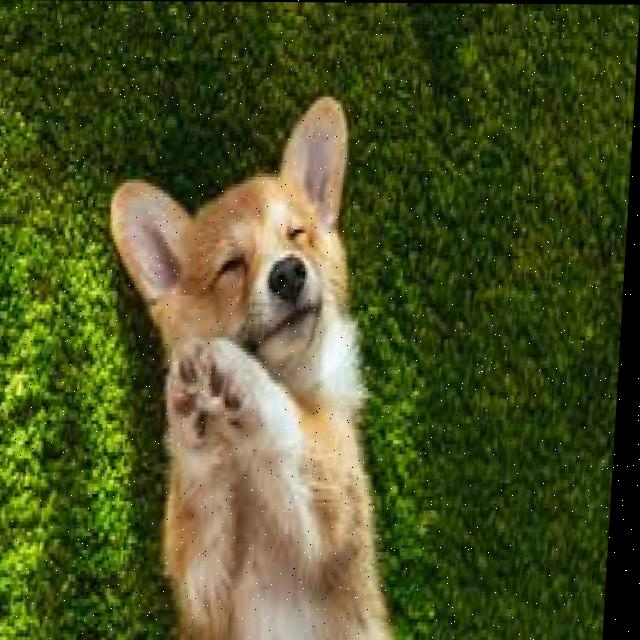CORGI: (81, 88, 441, 640)
